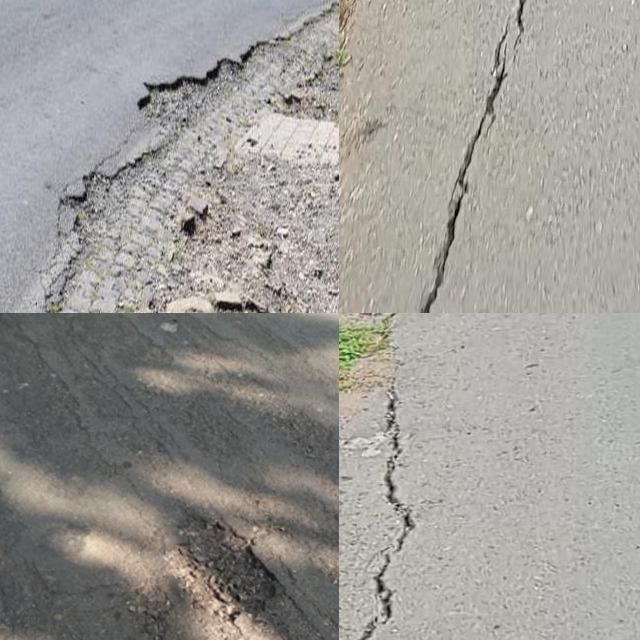Lubang: (172, 520, 276, 613)
Memanjang: (414, 0, 549, 313), (342, 313, 430, 640)
Pinggir: (34, 0, 339, 313)
